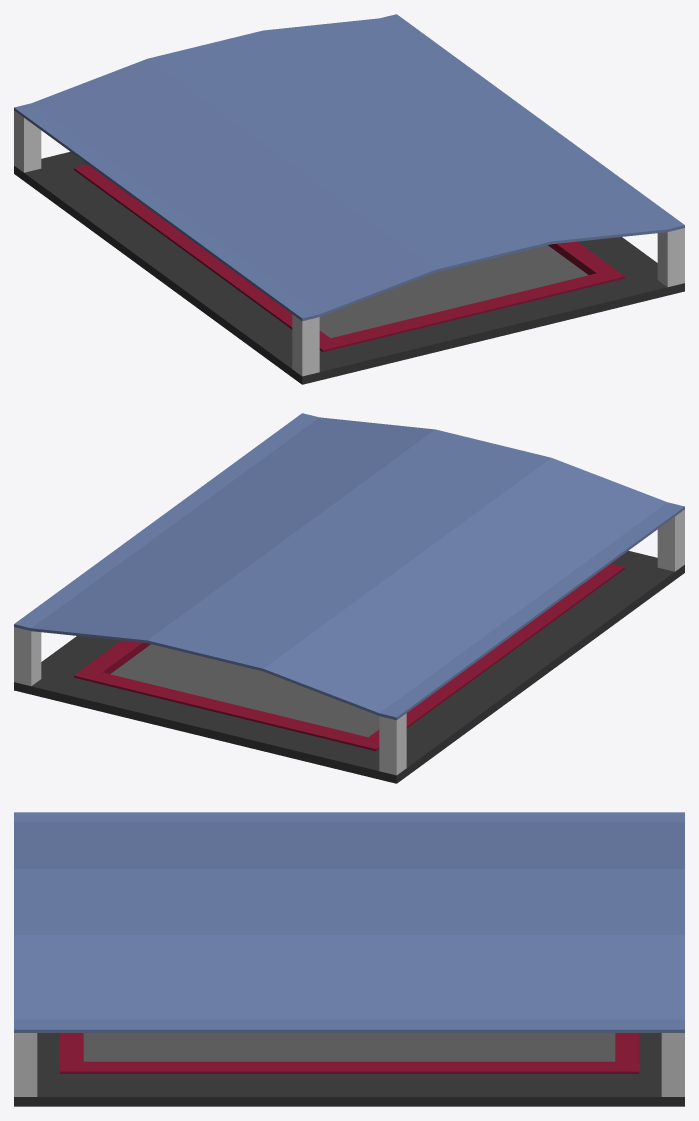
The model's file is BumperCarAttraction.fbx.
The picture shows the model from 3 angles, top to bottom: view 1: azimuth 30°, elevation 25°; view 2: azimuth 150°, elevation 25°; view 3: azimuth 270°, elevation 25°; orthographic projection. The views are drawn at different scales.
Parts seen in each view (by area): view 1: BumperCarAttraction; view 2: BumperCarAttraction; view 3: BumperCarAttraction.
Part boxes in pixels (x1,y1,x2,y2): BumperCarAttraction: (14,14,684,384); BumperCarAttraction: (14,413,684,783); BumperCarAttraction: (14,812,684,1106).
Bounding box in the file's own units: 2306 × 475 × 3008.
